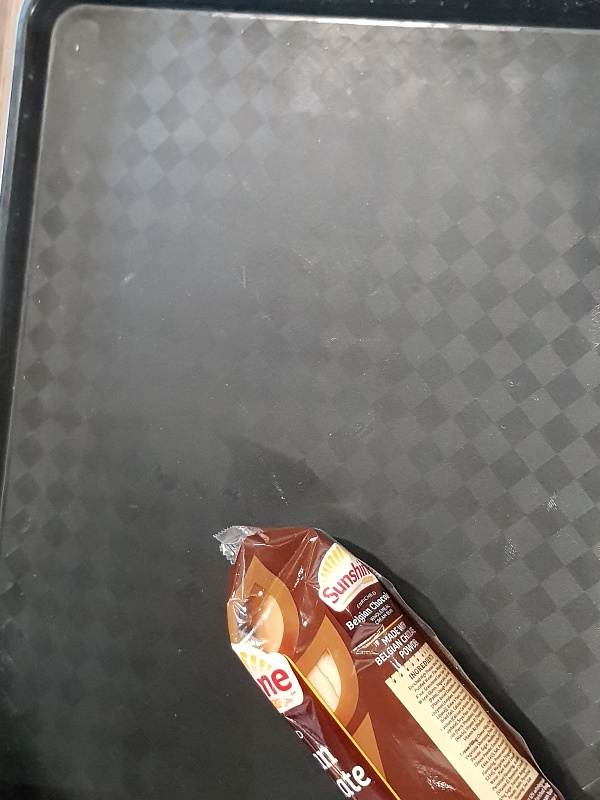Sunshine Belgium Chocolate Wholemeal Cream Bun: (212, 525, 566, 800)
